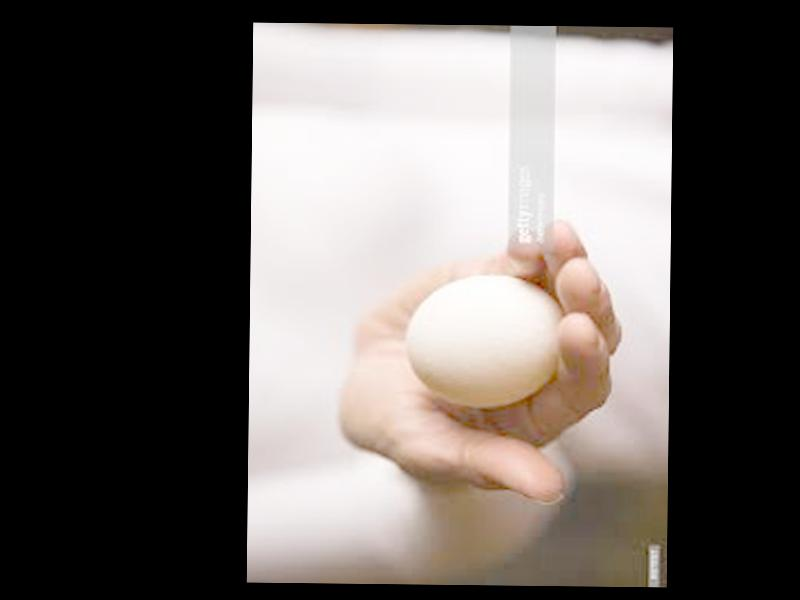Eggs: (407, 274, 562, 410)
